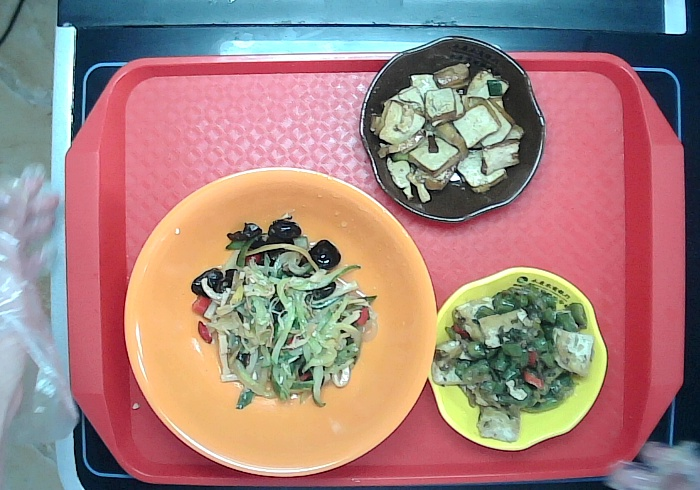YKMZ-Huang_Se_Ao_Bian_Wan: (420, 262, 614, 453)
YKMZ-Ju_Se_Tang_Wan: (118, 162, 440, 484)
YKMZ-Ka_Fei_Ao_Bian_Wan: (351, 30, 551, 226)
